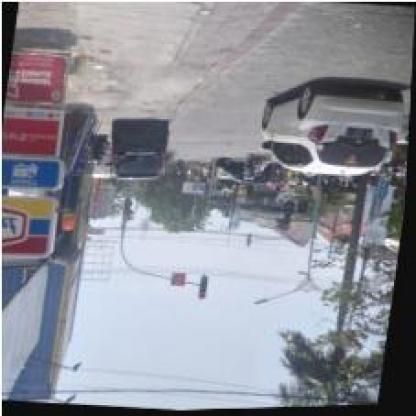red: (200, 276, 211, 300), (284, 209, 295, 231), (126, 198, 134, 223)
